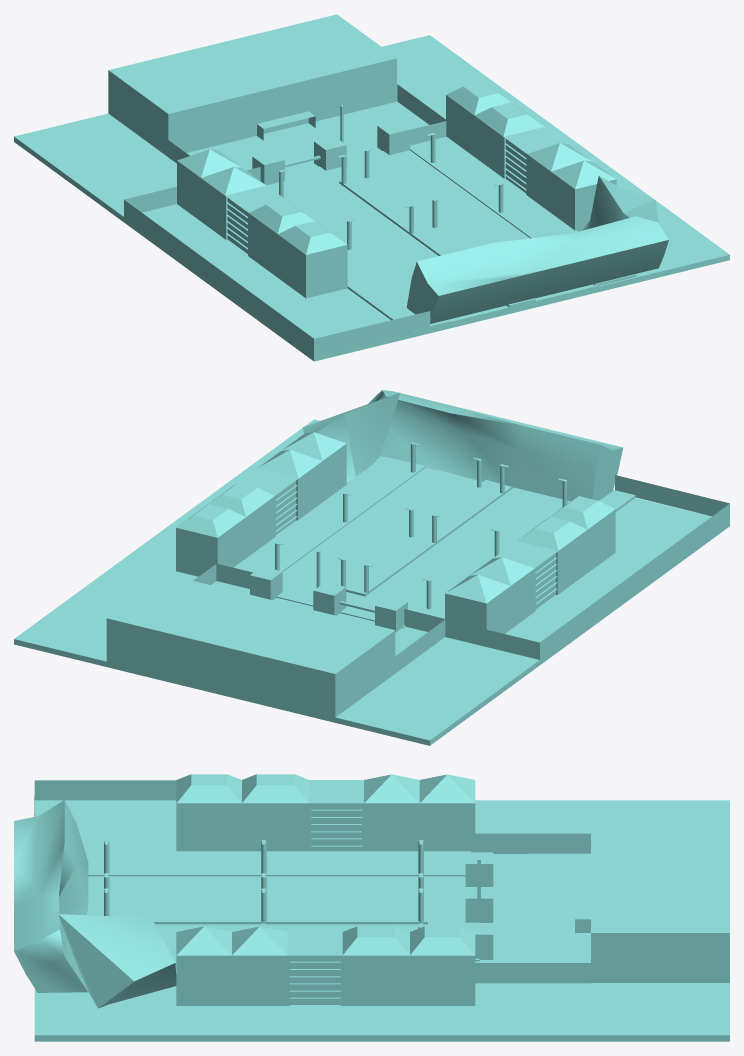
Rendered from newest.FBX.
3 renders of one model, top to bottom at view 1: azimuth 30°, elevation 25°; view 2: azimuth 150°, elevation 25°; view 3: azimuth 270°, elevation 25°, orthographic. The views are drawn at different scales.
Visible parts, largest first — view 1: GuardPost3; view 2: GuardPost3; view 3: GuardPost3.
Part boxes in pixels (<box>): GuardPost3: <box>14,14,729,361</box>; GuardPost3: <box>14,390,729,745</box>; GuardPost3: <box>14,774,729,1041</box>.
Bounding box in the file's own units: 34.71 × 5.38 × 44.68.
